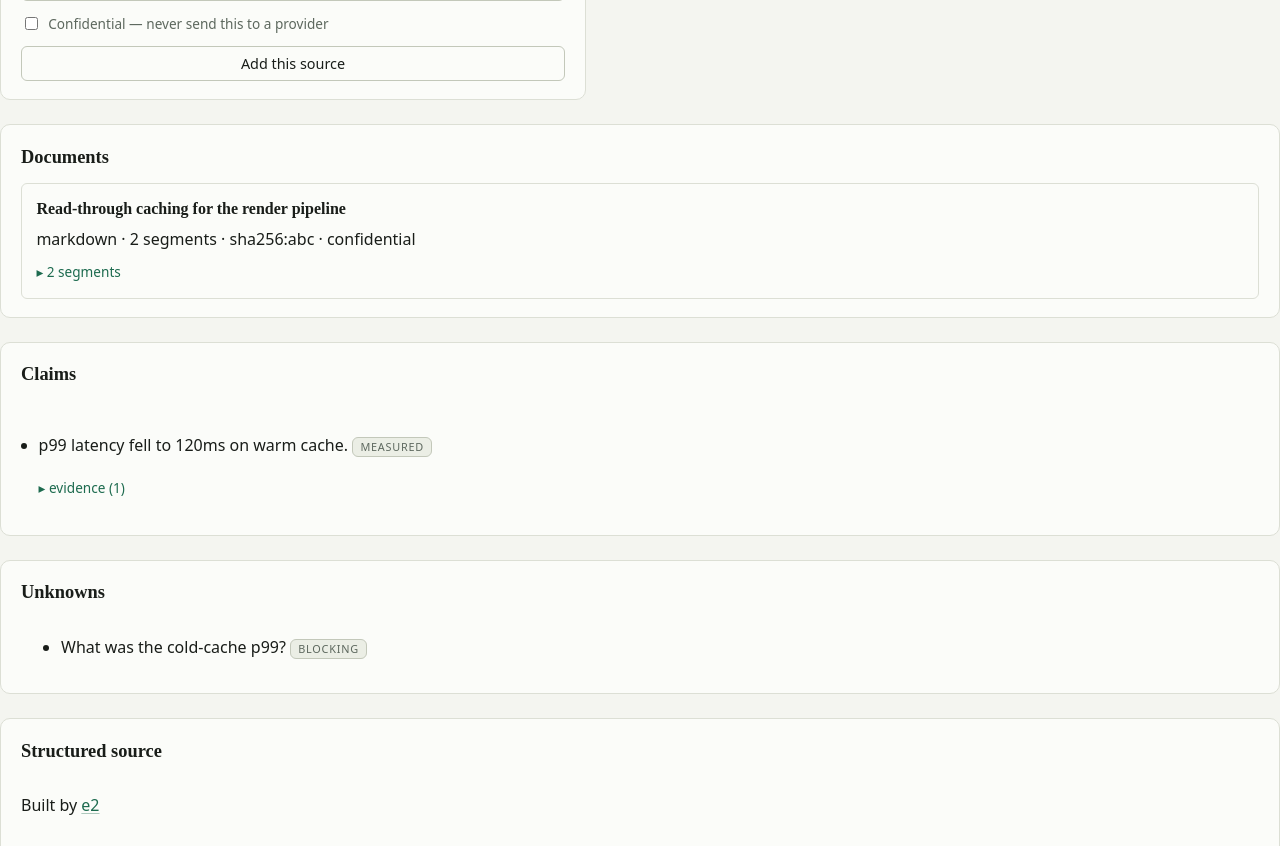
Test case: the source workspace › shows each claim with the segments it rests on
(page scrolled)
Check: the list item with test id "claim-c1" shows "p99 latency fell to 120ms on warm cache.", box [39, 434, 348, 456]
Check: the list item with test id "claim-c1" shows "measured", box [360, 439, 424, 454]
Click the button "▸ evidence (1)" at (82, 487), box [39, 474, 125, 501]
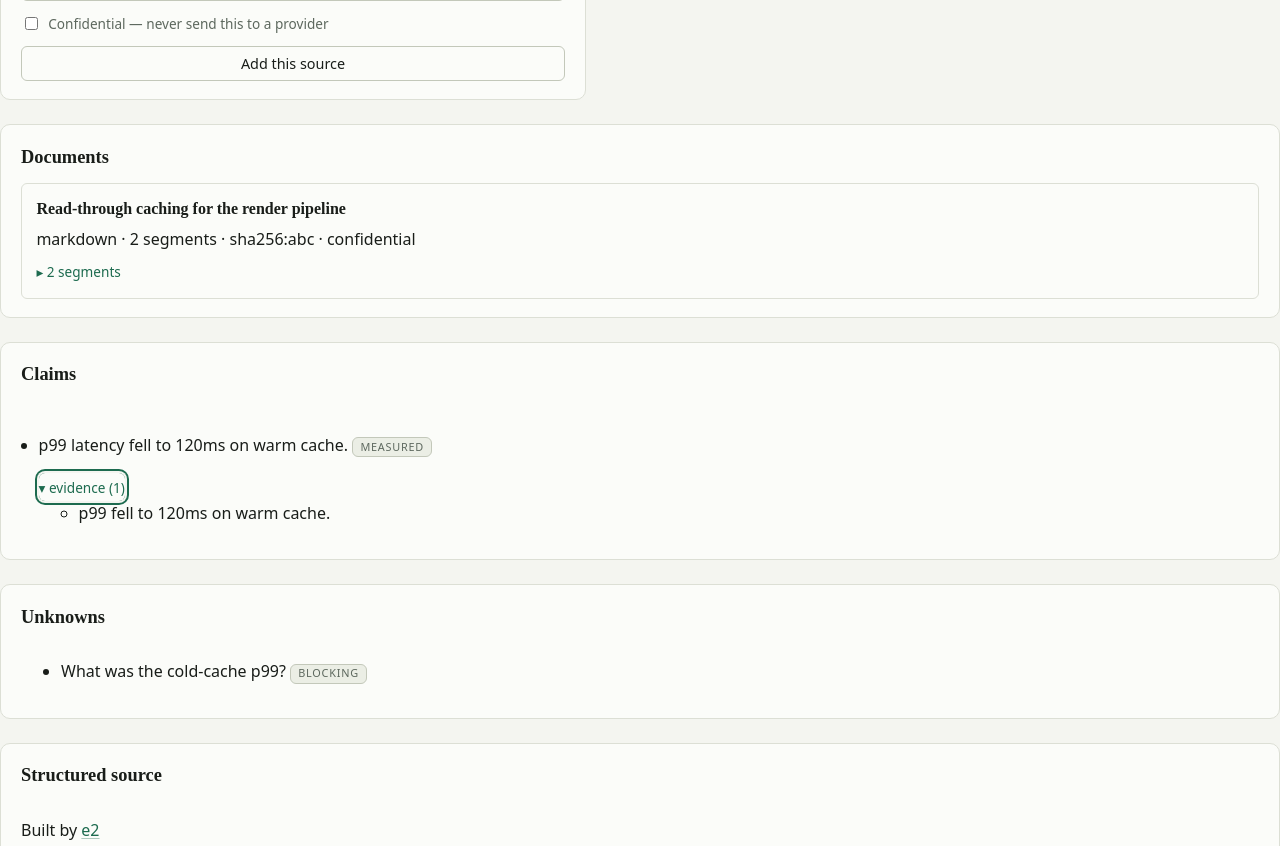
Check: the list item "p99 fell to 120ms on warm cache." is shown, box [79, 502, 330, 524]
